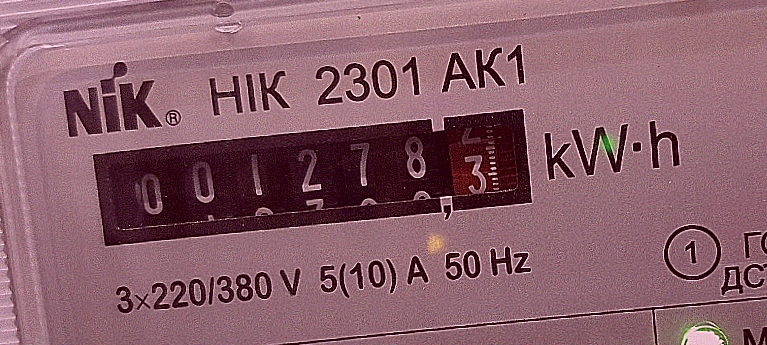0: (138, 168, 166, 217), (189, 158, 216, 205)
1: (246, 149, 266, 196)
2: (295, 146, 323, 194), (458, 125, 483, 145)
3: (461, 151, 489, 196)
7: (348, 140, 372, 187)
8: (403, 134, 428, 179)
screen: (77, 96, 550, 258)
